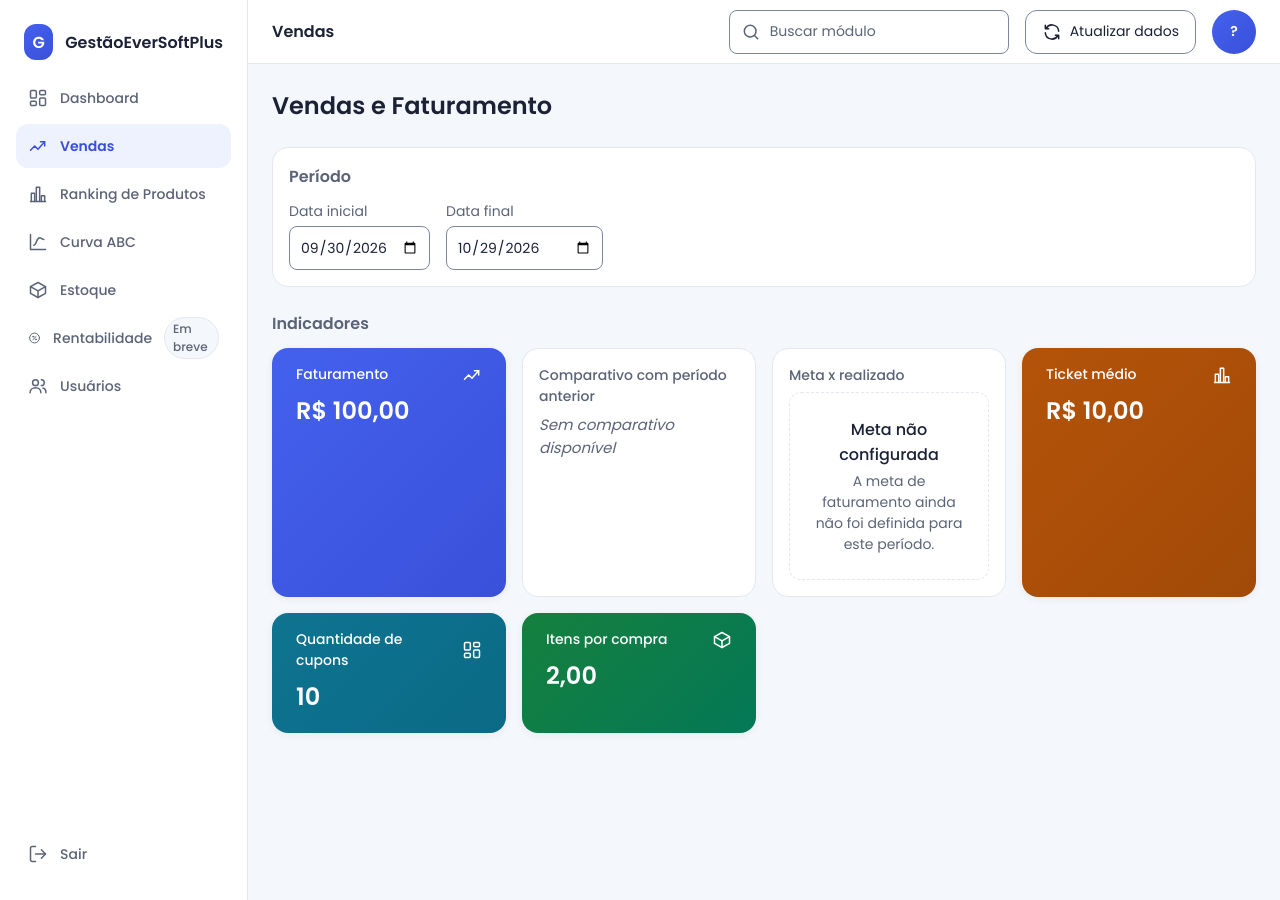
Test case: App › autenticado em #/vendas, mostra a tela de Vendas e o link Dashboard da sidebar retorna ao dashboard
Expected: the heading "Vendas e Faturamento" is shown, [272,88,552,123]
Expected: the text "Sem comparativo disponível" is shown, [539,414,674,458]
Click the link "Dashboard": (83, 98) [28,88,139,108]
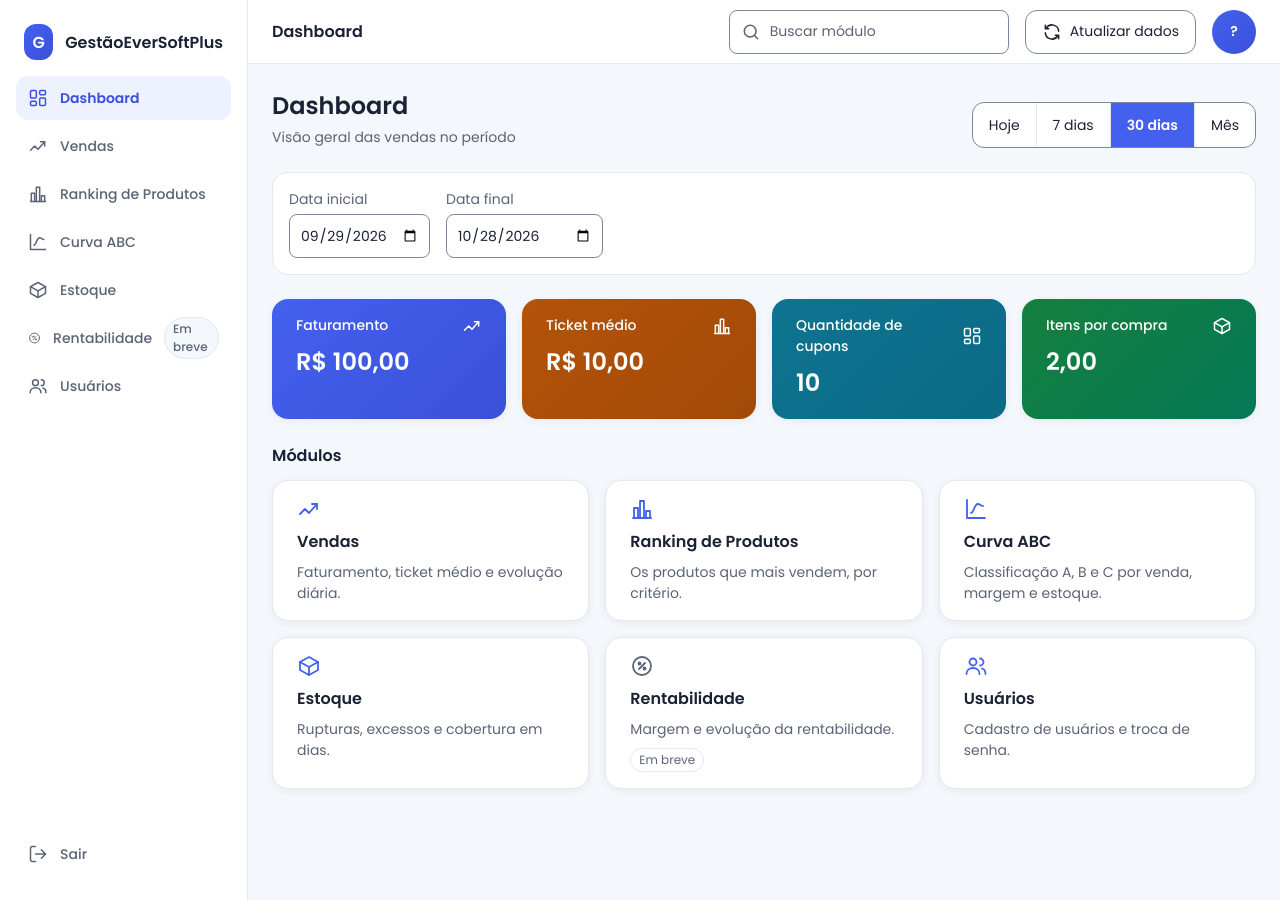
Expected: the heading "Dashboard" is shown, [272,89,408,122]
